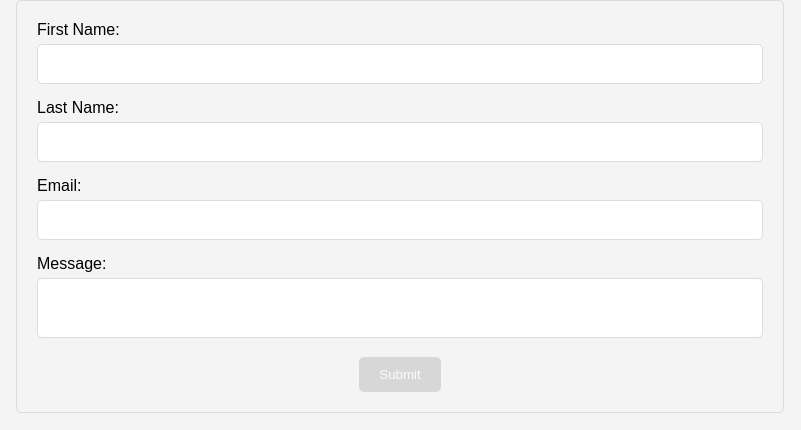
Scenario: MessageForm › should enable submit button when all validations pass
The width and height of the screenshot is (801, 430).
Type "John" into the field labelled "First Name:" at {"x": 400, "y": 64}, box [37,44,763,84]
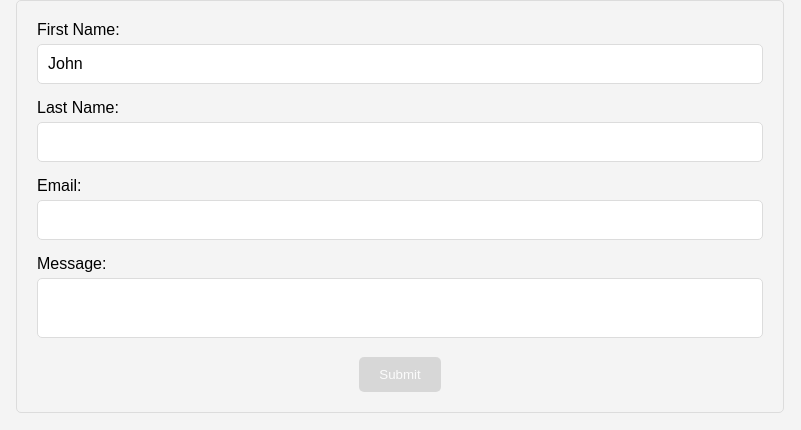
Type "Doe" into the field labelled "Last Name:" at {"x": 400, "y": 142}, box [37,122,763,162]
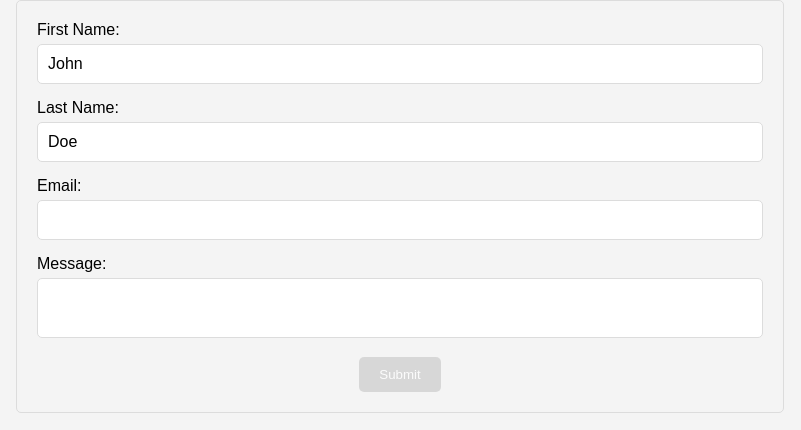
Type "john.doe@example.com" into the field labelled "Email:" at {"x": 400, "y": 220}, box [37,200,763,240]
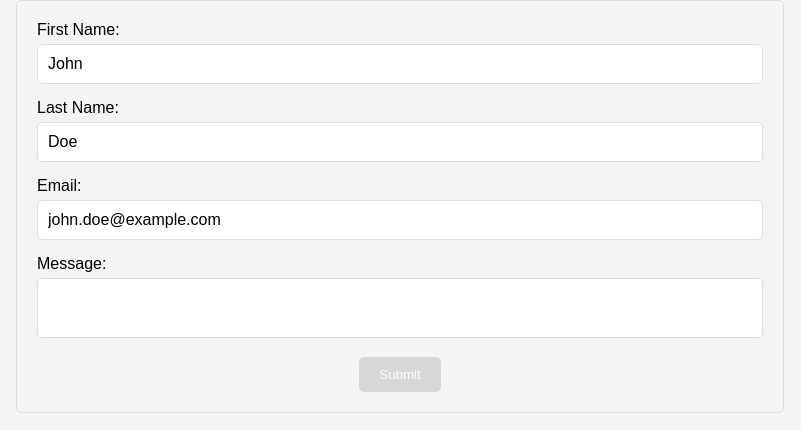
Type "Hello, this is a test message." into the text box labelled "Message:" at {"x": 400, "y": 308}, box [37,278,763,338]
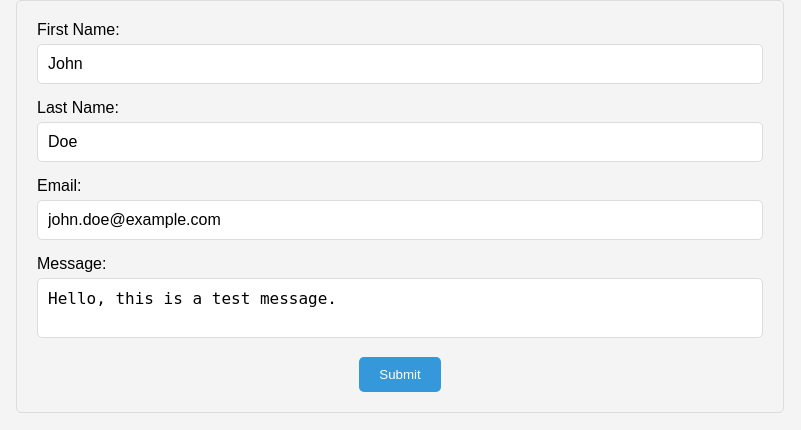
Result: the button "Submit" is enabled at [359,357,441,392]
